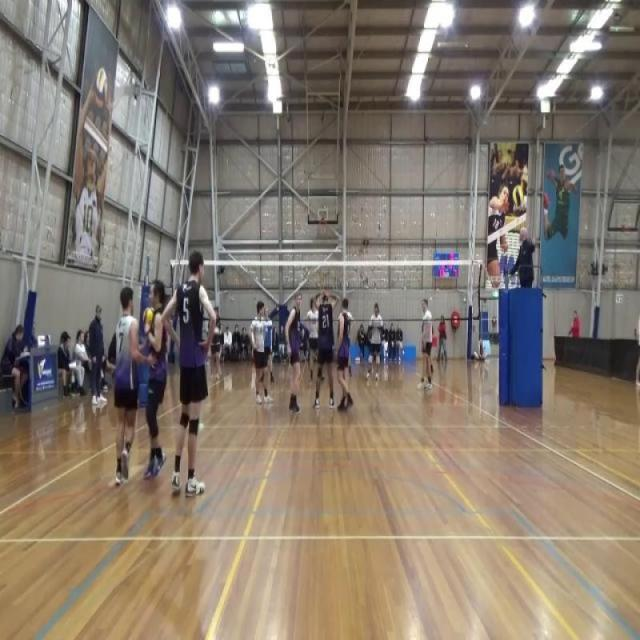volleyball: (96, 64, 107, 104), (141, 305, 156, 331), (512, 185, 524, 208)
